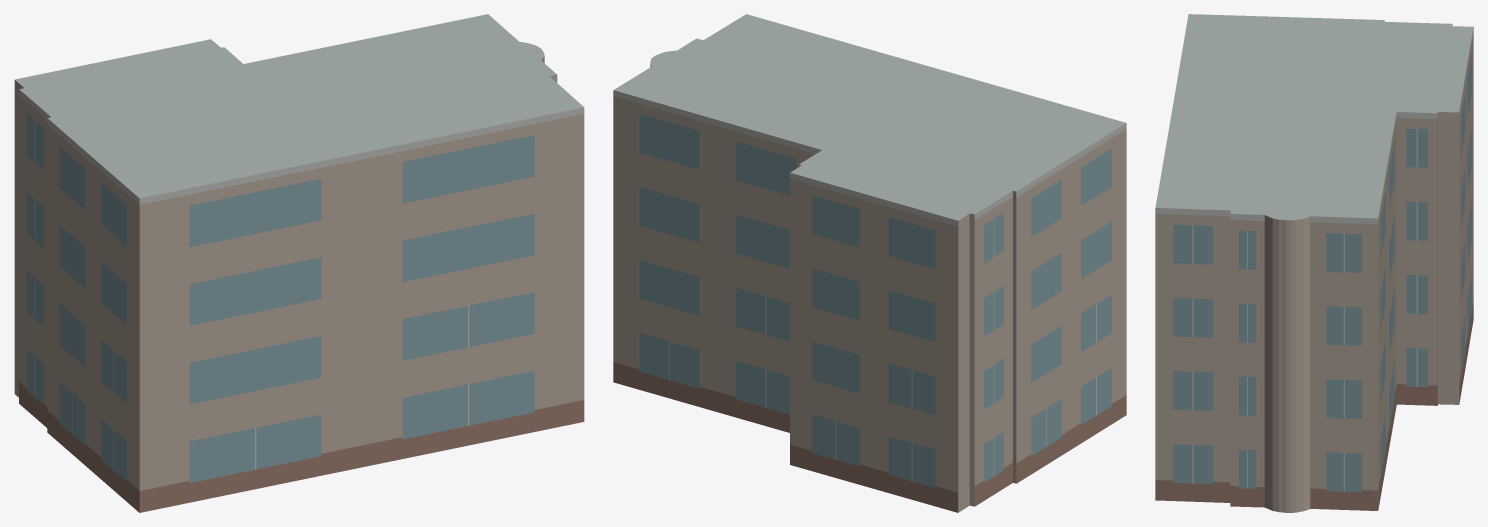
Rendered from survey-upis-32837634.glb.
The picture shows the model from 3 angles, left to right: view 1: azimuth 30°, elevation 25°; view 2: azimuth 150°, elevation 25°; view 3: azimuth 270°, elevation 25°; orthographic projection. The views are drawn at different scales.
Parts seen in each view (by area): view 1: survey-upis-32837634.tmp; view 2: survey-upis-32837634.tmp; view 3: survey-upis-32837634.tmp.
Boxes of the visible parts, box(x1,y1,x2,y2) form: survey-upis-32837634.tmp: box(14, 14, 584, 512); survey-upis-32837634.tmp: box(613, 14, 1126, 512); survey-upis-32837634.tmp: box(1155, 14, 1473, 512).
Size of the model in its own units: 17.86 by 11.8 by 11.64.
